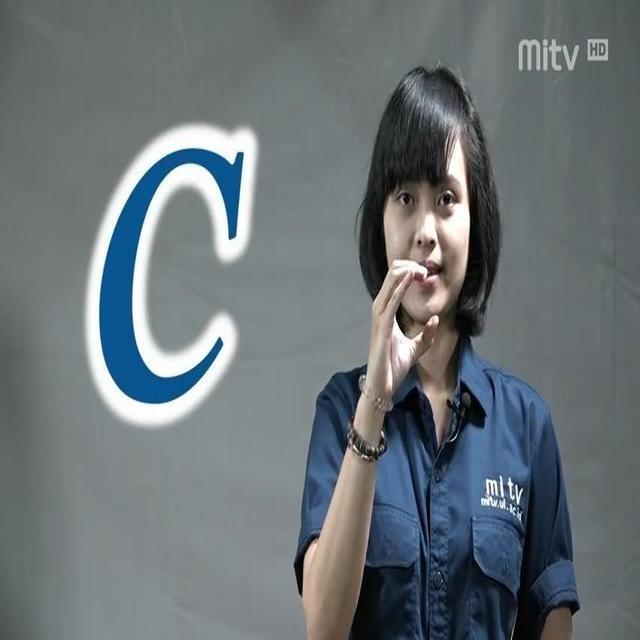C: (363, 246, 447, 376)
